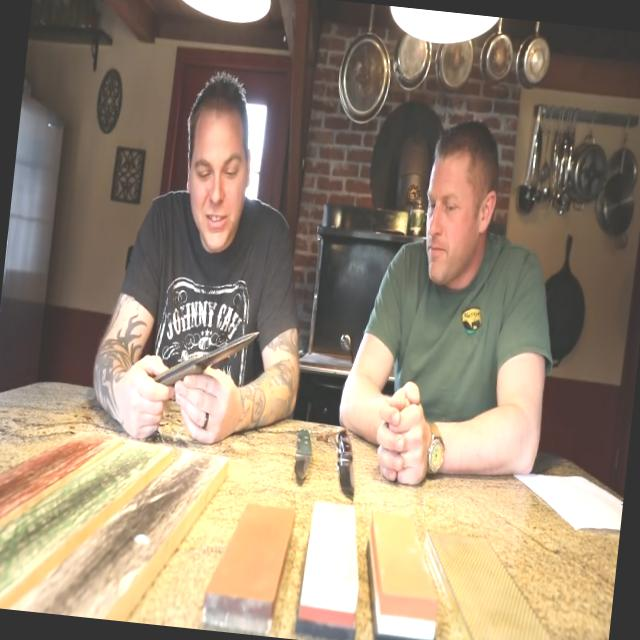knife: (128, 297, 273, 423)
